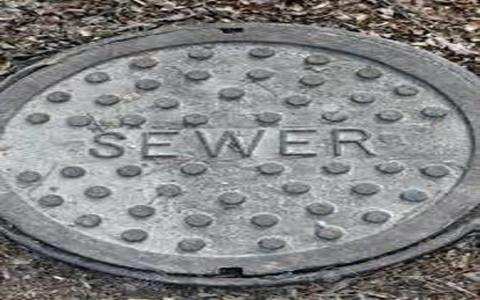proper manhole: (1, 4, 478, 279)
